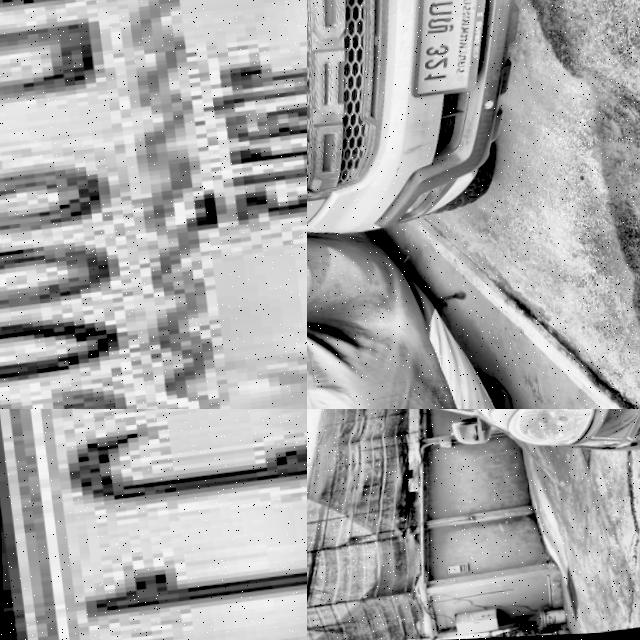license-plate: (0, 0, 307, 409), (0, 409, 307, 640), (395, 0, 502, 106)
